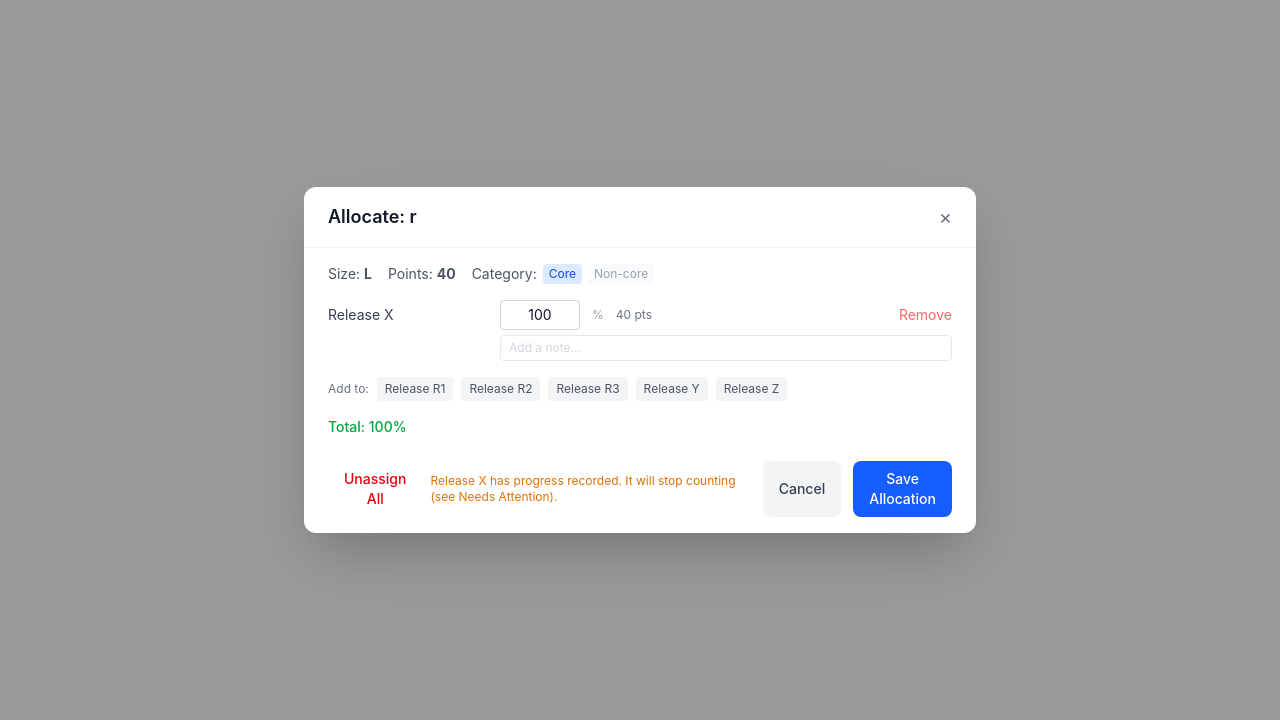
Test: AllocationModal warns before progress stops counting › names a kept release whose records exceed its new percentage
Expected: the text "will count." is not shown
Replace the text in the number field with "50": (540, 315) [500, 300, 580, 330]
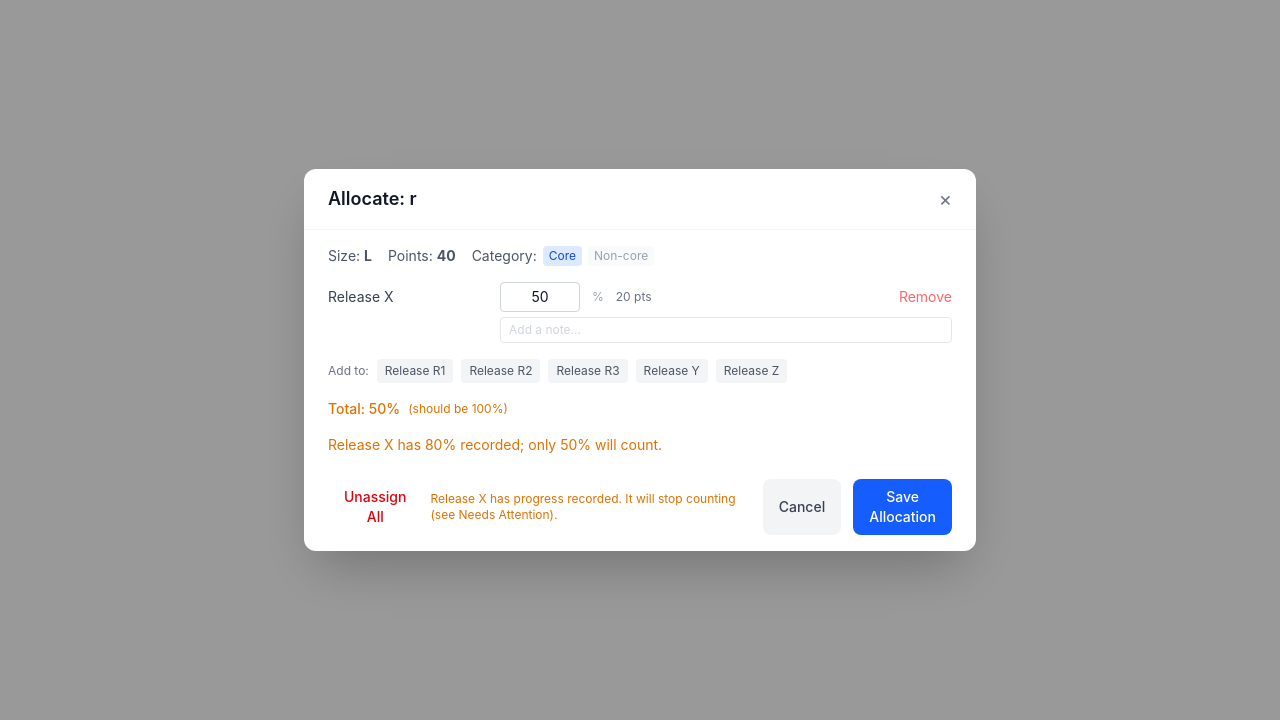
Now the text "Release X has 80% recorded; only 50% will count." is shown, box [328, 436, 662, 453]
